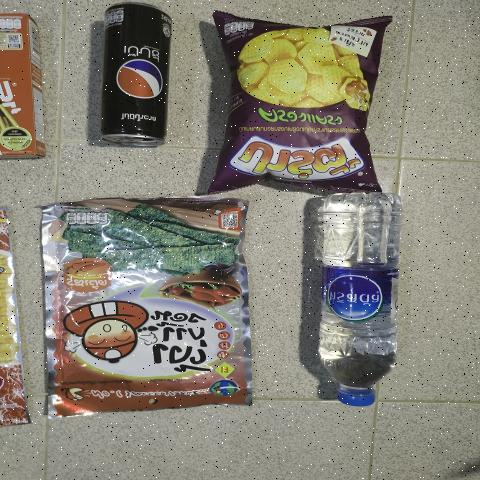crystal: (304, 181, 409, 406)
party_purple: (216, 30, 374, 190)
pepsi_black: (106, 1, 182, 153)
taokaenoi: (52, 199, 252, 414)
